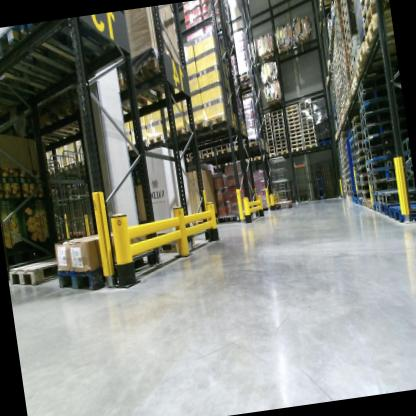pallet: (202, 109, 362, 199), (0, 14, 112, 112), (5, 249, 156, 298), (124, 50, 177, 109), (110, 60, 153, 119), (354, 38, 398, 70), (361, 9, 394, 50), (358, 0, 392, 36), (355, 107, 397, 135), (124, 132, 175, 154), (183, 118, 219, 148), (355, 58, 398, 82), (164, 122, 200, 149), (357, 119, 398, 142), (356, 100, 394, 122), (366, 176, 406, 196), (377, 186, 413, 207), (366, 164, 400, 186), (359, 133, 397, 152), (386, 202, 416, 226), (358, 0, 389, 22), (357, 86, 389, 107), (362, 146, 397, 164), (354, 78, 389, 93), (365, 156, 397, 171), (235, 69, 255, 93), (276, 41, 296, 64), (293, 34, 312, 56), (340, 12, 354, 37), (340, 22, 354, 47), (258, 51, 279, 67), (267, 92, 285, 109), (368, 191, 386, 207), (340, 5, 352, 29), (349, 77, 364, 96), (316, 16, 332, 33), (342, 32, 355, 52), (345, 40, 358, 60), (315, 0, 335, 12), (337, 0, 349, 19), (304, 139, 331, 147), (354, 146, 369, 160), (356, 180, 371, 193), (201, 149, 217, 161), (379, 203, 390, 219), (358, 172, 371, 185), (289, 139, 304, 150), (357, 165, 371, 176), (349, 115, 359, 130), (212, 147, 230, 155), (370, 204, 381, 217), (189, 153, 202, 164), (351, 124, 361, 138), (229, 143, 243, 153), (238, 156, 253, 165), (284, 103, 299, 112), (352, 141, 365, 151), (242, 141, 258, 149), (275, 149, 289, 158), (324, 75, 335, 86), (360, 190, 370, 202), (349, 69, 357, 84), (347, 61, 355, 75), (290, 146, 304, 154), (303, 144, 317, 152), (300, 120, 314, 128), (299, 111, 313, 119), (285, 111, 299, 119), (356, 158, 367, 168), (351, 132, 360, 144), (263, 152, 276, 160), (271, 113, 284, 121), (339, 0, 348, 11), (300, 116, 314, 123), (298, 104, 312, 111), (298, 99, 312, 106), (287, 119, 301, 126), (289, 135, 303, 142), (272, 119, 284, 127), (303, 135, 316, 142), (286, 114, 299, 121), (274, 135, 287, 142), (347, 56, 355, 67), (349, 152, 356, 164), (302, 128, 314, 135), (288, 127, 302, 133), (289, 131, 303, 137), (275, 142, 287, 149), (273, 127, 285, 134), (348, 144, 356, 154), (251, 157, 264, 163), (301, 124, 314, 130), (299, 109, 312, 115), (274, 139, 287, 145), (348, 138, 355, 149), (286, 108, 298, 114), (274, 132, 286, 138), (271, 117, 283, 123), (271, 109, 283, 115), (287, 123, 301, 128), (302, 132, 315, 137), (272, 125, 285, 130), (276, 147, 288, 152), (348, 131, 354, 139), (262, 111, 270, 117), (264, 123, 272, 129), (266, 142, 275, 147), (265, 135, 273, 140), (266, 139, 274, 144), (267, 150, 275, 155), (263, 116, 270, 121), (265, 131, 272, 136), (267, 146, 274, 151), (264, 120, 271, 124), (265, 128, 272, 132), (362, 203, 367, 208), (351, 162, 356, 167), (358, 200, 362, 205)
